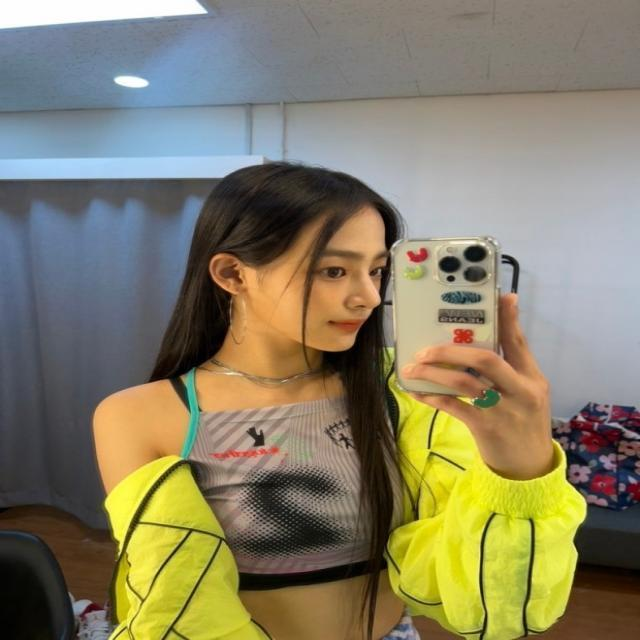phone: (389, 235, 508, 398)
